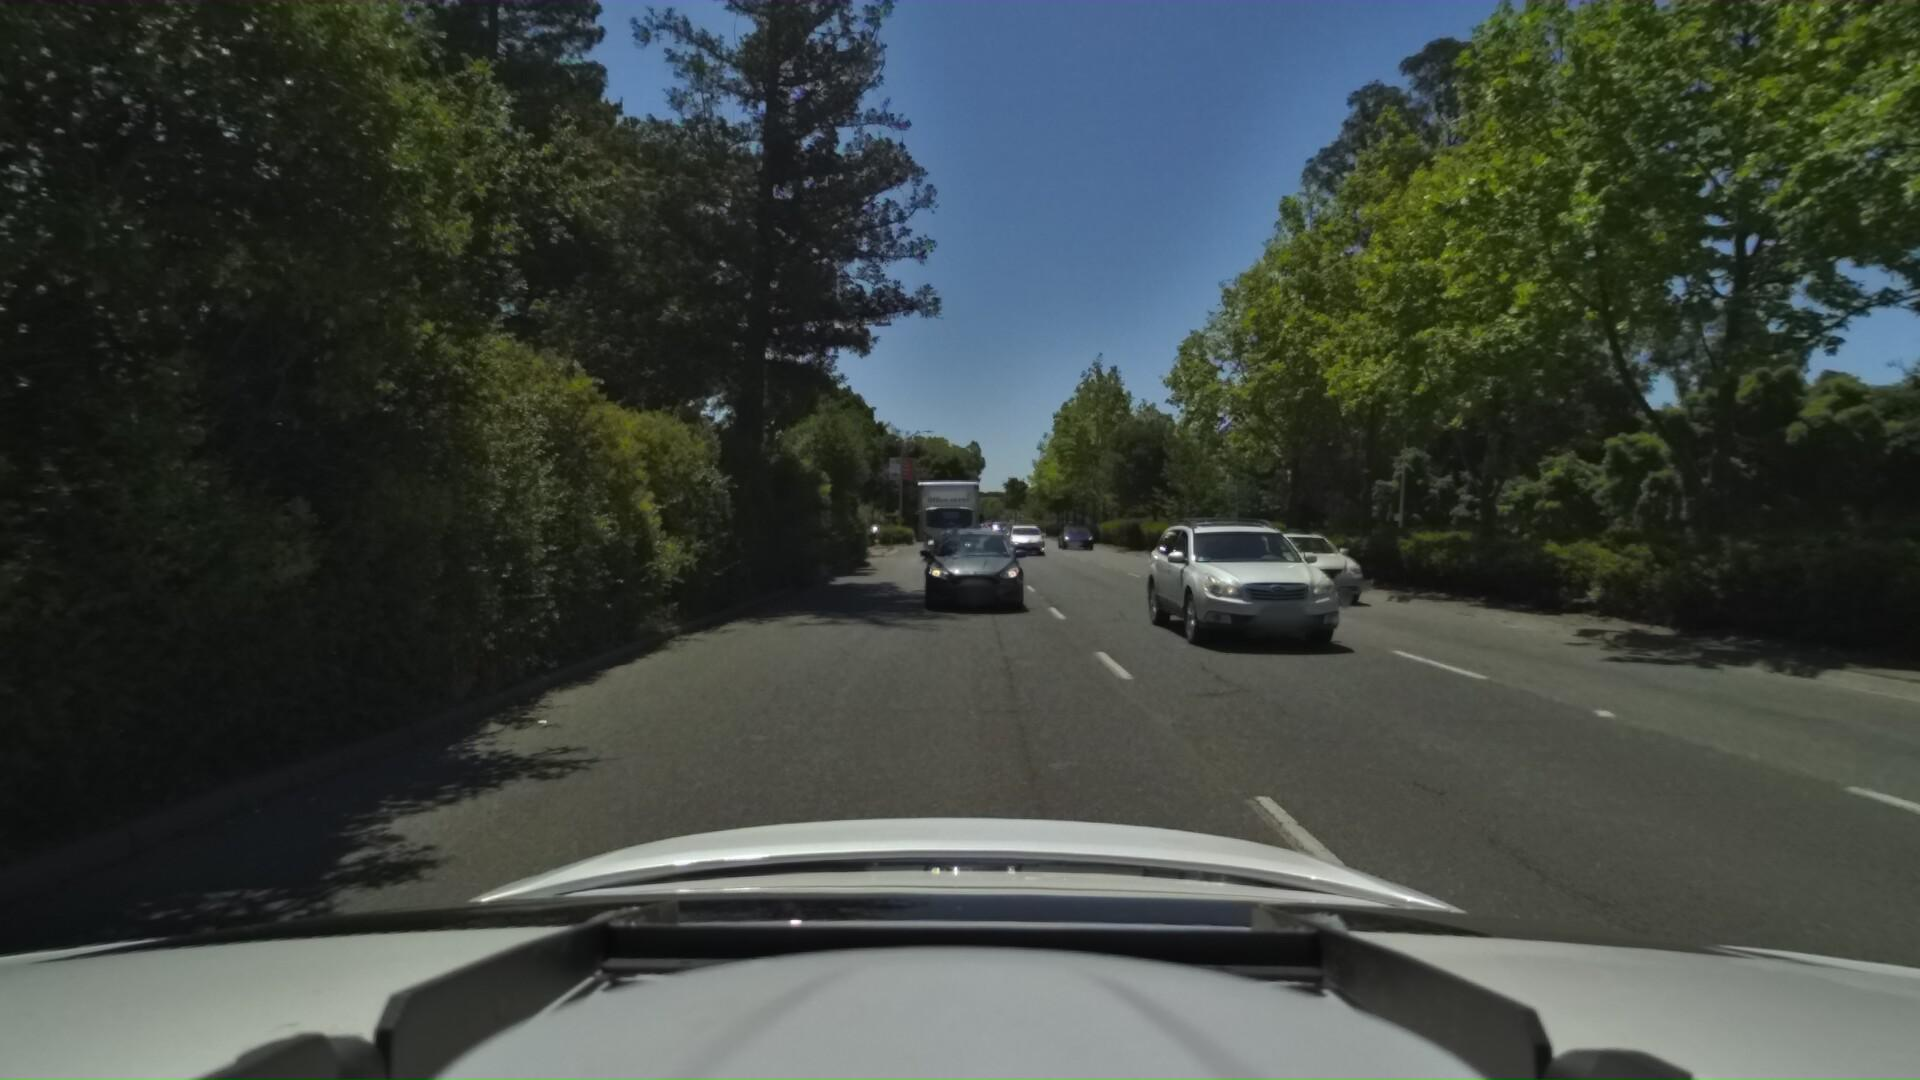car: (1120, 516, 1316, 647), (1218, 521, 1369, 599), (915, 524, 1021, 615), (1001, 520, 1044, 555), (1052, 520, 1091, 546)
truck: (910, 468, 985, 558)
